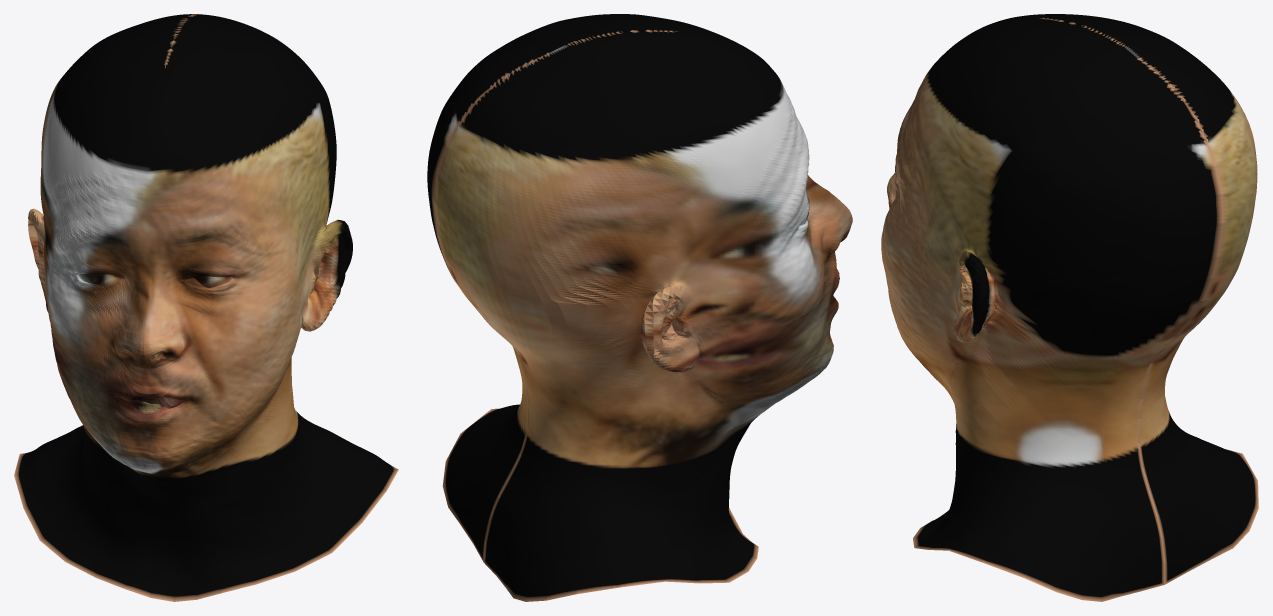
The model's file is mesh_coarse_detail.obj.
The picture shows the model from 3 angles, left to right: view 1: azimuth 30°, elevation 25°; view 2: azimuth 150°, elevation 25°; view 3: azimuth 270°, elevation 25°; orthographic projection. The views are drawn at different scales.
Size of the model in its own units: 0.2079 by 0.3072 by 0.2018.
